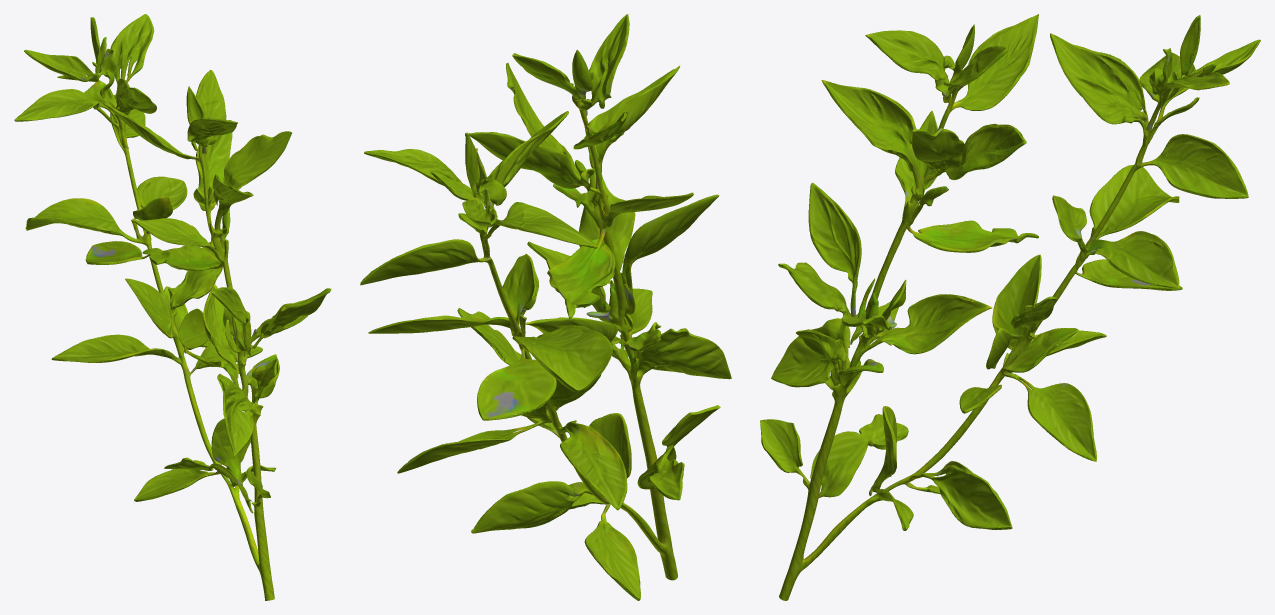
File: jivanti.glb
3 renders of one model, left to right at view 1: azimuth 30°, elevation 25°; view 2: azimuth 150°, elevation 25°; view 3: azimuth 270°, elevation 25°, orthographic. The views are drawn at different scales.
Visible parts, largest first — view 1: tripo_node_588bac4e-686b-4ae7-91bd-2d0597aa60c3; view 2: tripo_node_588bac4e-686b-4ae7-91bd-2d0597aa60c3; view 3: tripo_node_588bac4e-686b-4ae7-91bd-2d0597aa60c3.
Part boxes in pixels (x1,y1,x2,y2): tripo_node_588bac4e-686b-4ae7-91bd-2d0597aa60c3: [14, 14, 331, 600]; tripo_node_588bac4e-686b-4ae7-91bd-2d0597aa60c3: [360, 14, 731, 600]; tripo_node_588bac4e-686b-4ae7-91bd-2d0597aa60c3: [760, 14, 1260, 600].
Size of the model in its own units: 0.4129 by 1 by 0.7859.
1 material, 1 textured.
